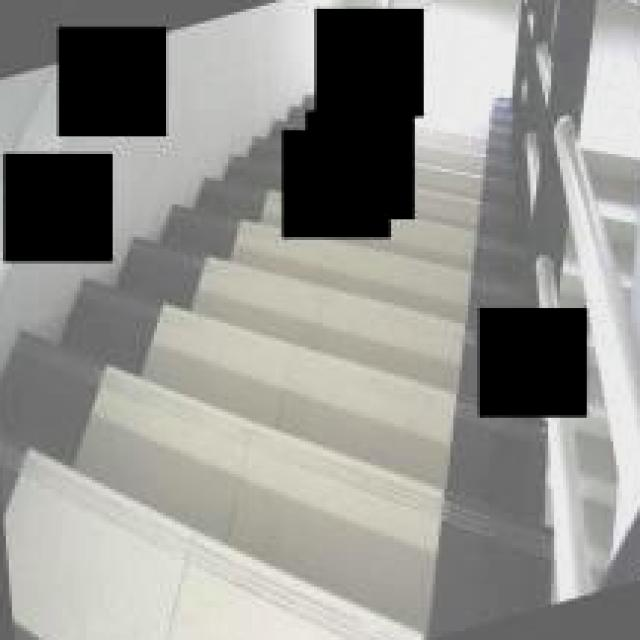downstair: (126, 285, 428, 640)
